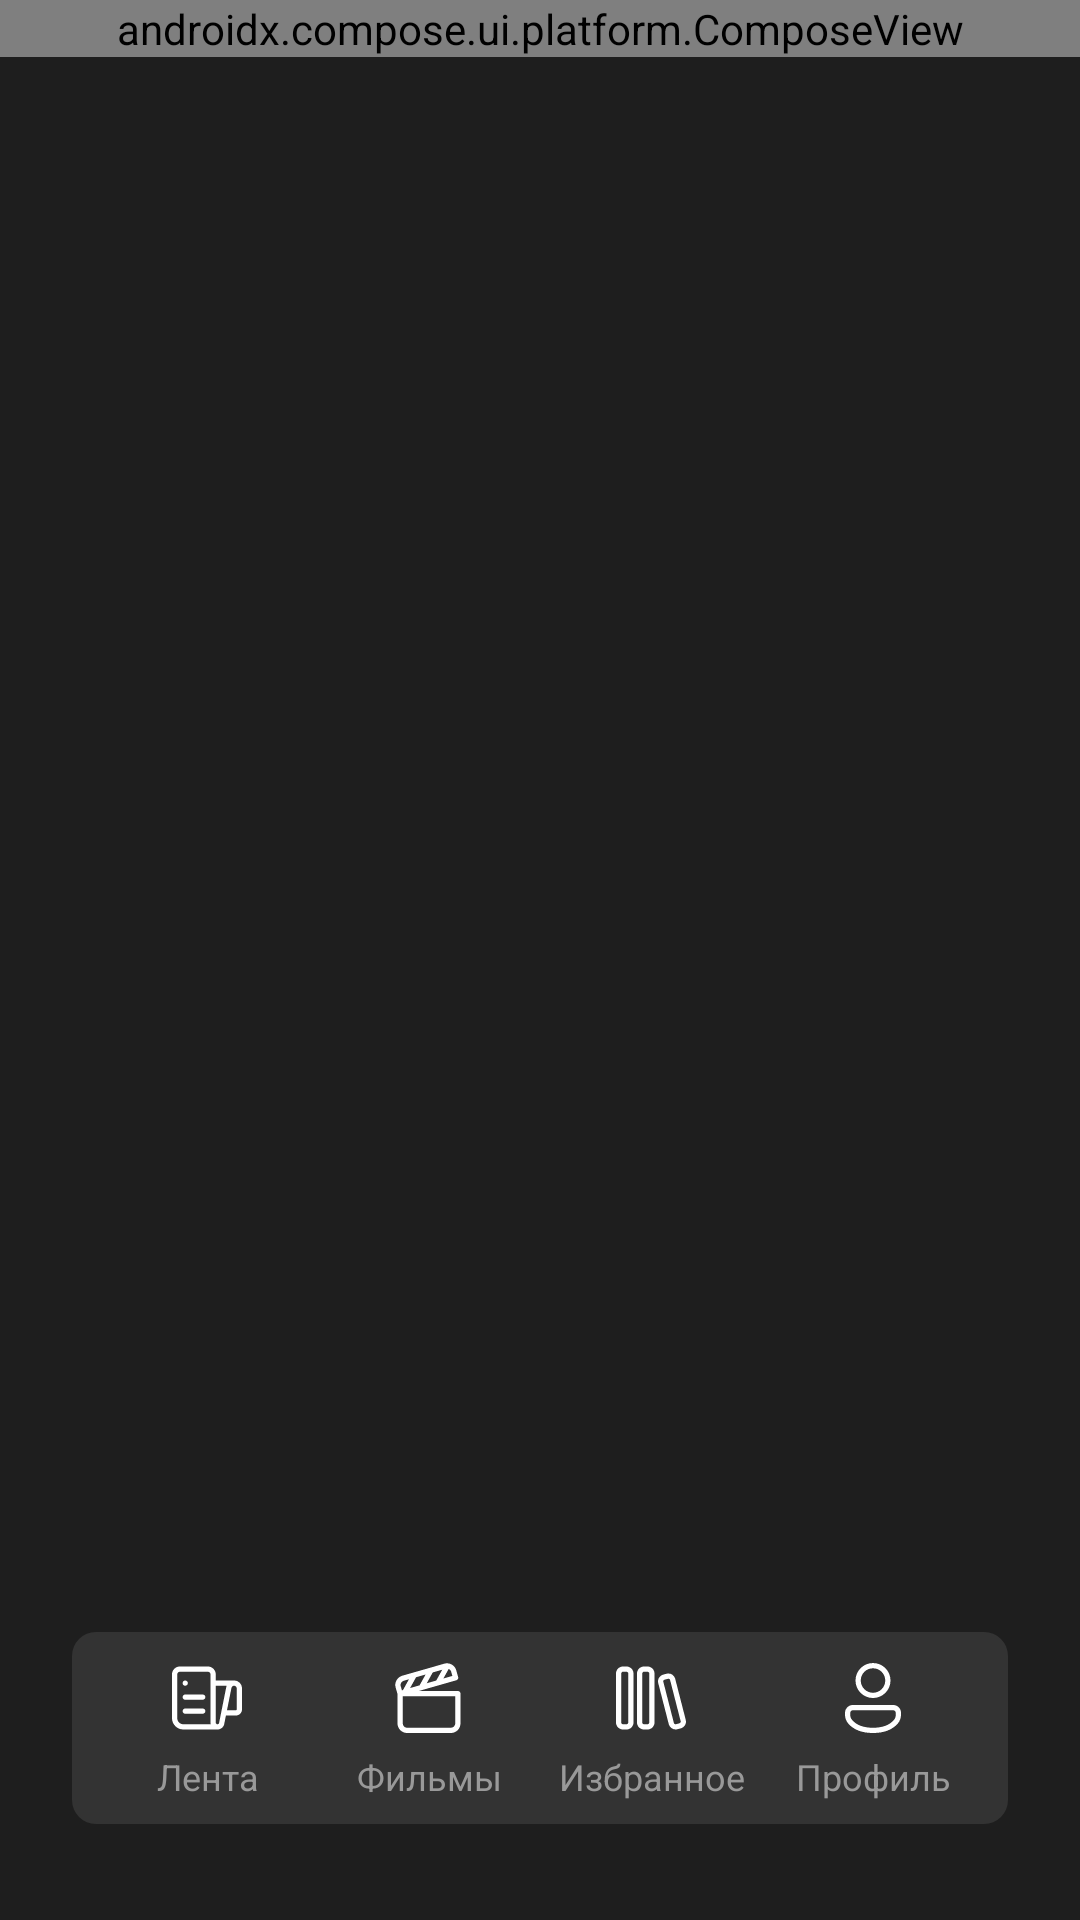

Named icons in this screenshot (1080 x 1920) and their bounding boxes, (x1, y1, x2, y2):
library: (616, 1666, 686, 1730)
